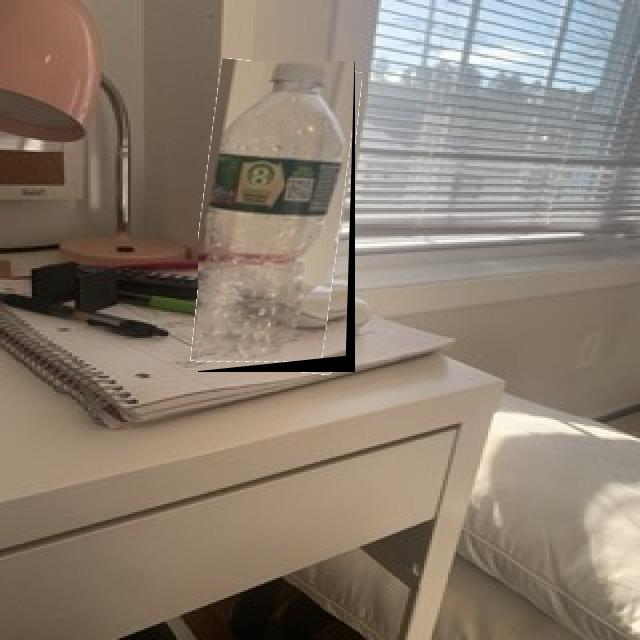water_bottle: (198, 61, 355, 372)
